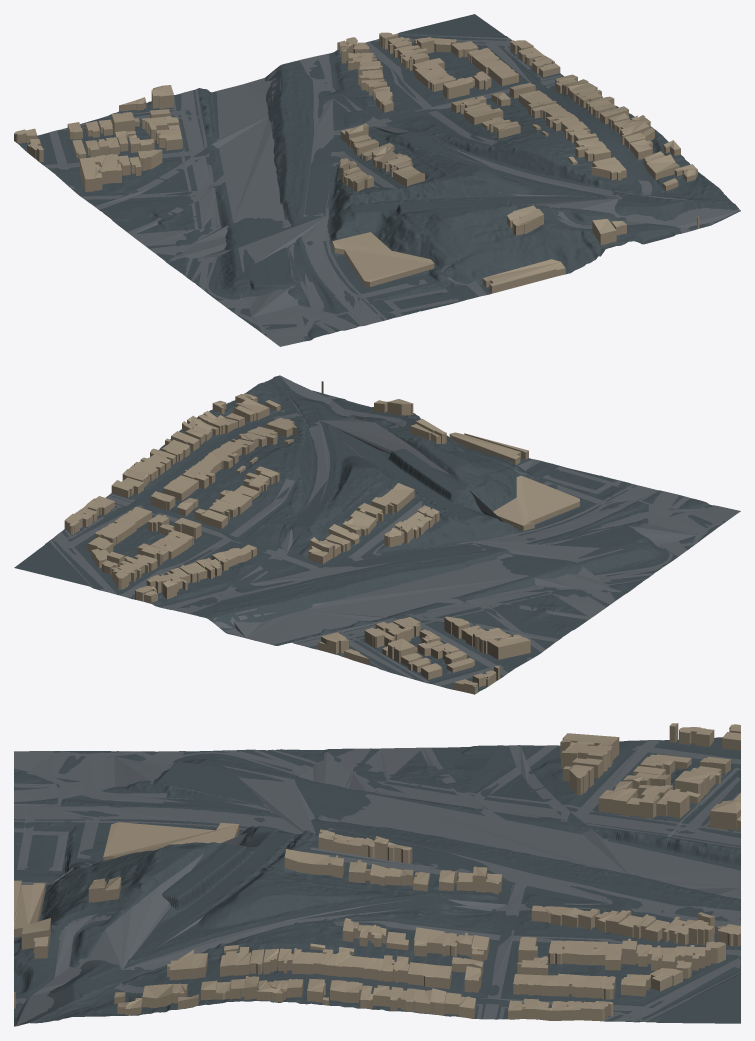
The model's file is epsg26910-1438-10876.lod0.glb.
3 views of the same model, one above another, from view 1: azimuth 30°, elevation 25°; view 2: azimuth 150°, elevation 25°; view 3: azimuth 270°, elevation 25° (orthographic). The views are drawn at different scales.
Visible parts, largest first — view 1: epsg26910-1438-10876-lod0; view 2: epsg26910-1438-10876-lod0; view 3: epsg26910-1438-10876-lod0.
Boxes of the visible parts, bbox=[...] form: epsg26910-1438-10876-lod0: bbox=[14, 14, 740, 346]; epsg26910-1438-10876-lod0: bbox=[14, 375, 740, 694]; epsg26910-1438-10876-lod0: bbox=[14, 723, 740, 1026].
Bounding box in the file's own units: 384 × 40.23 × 384.
